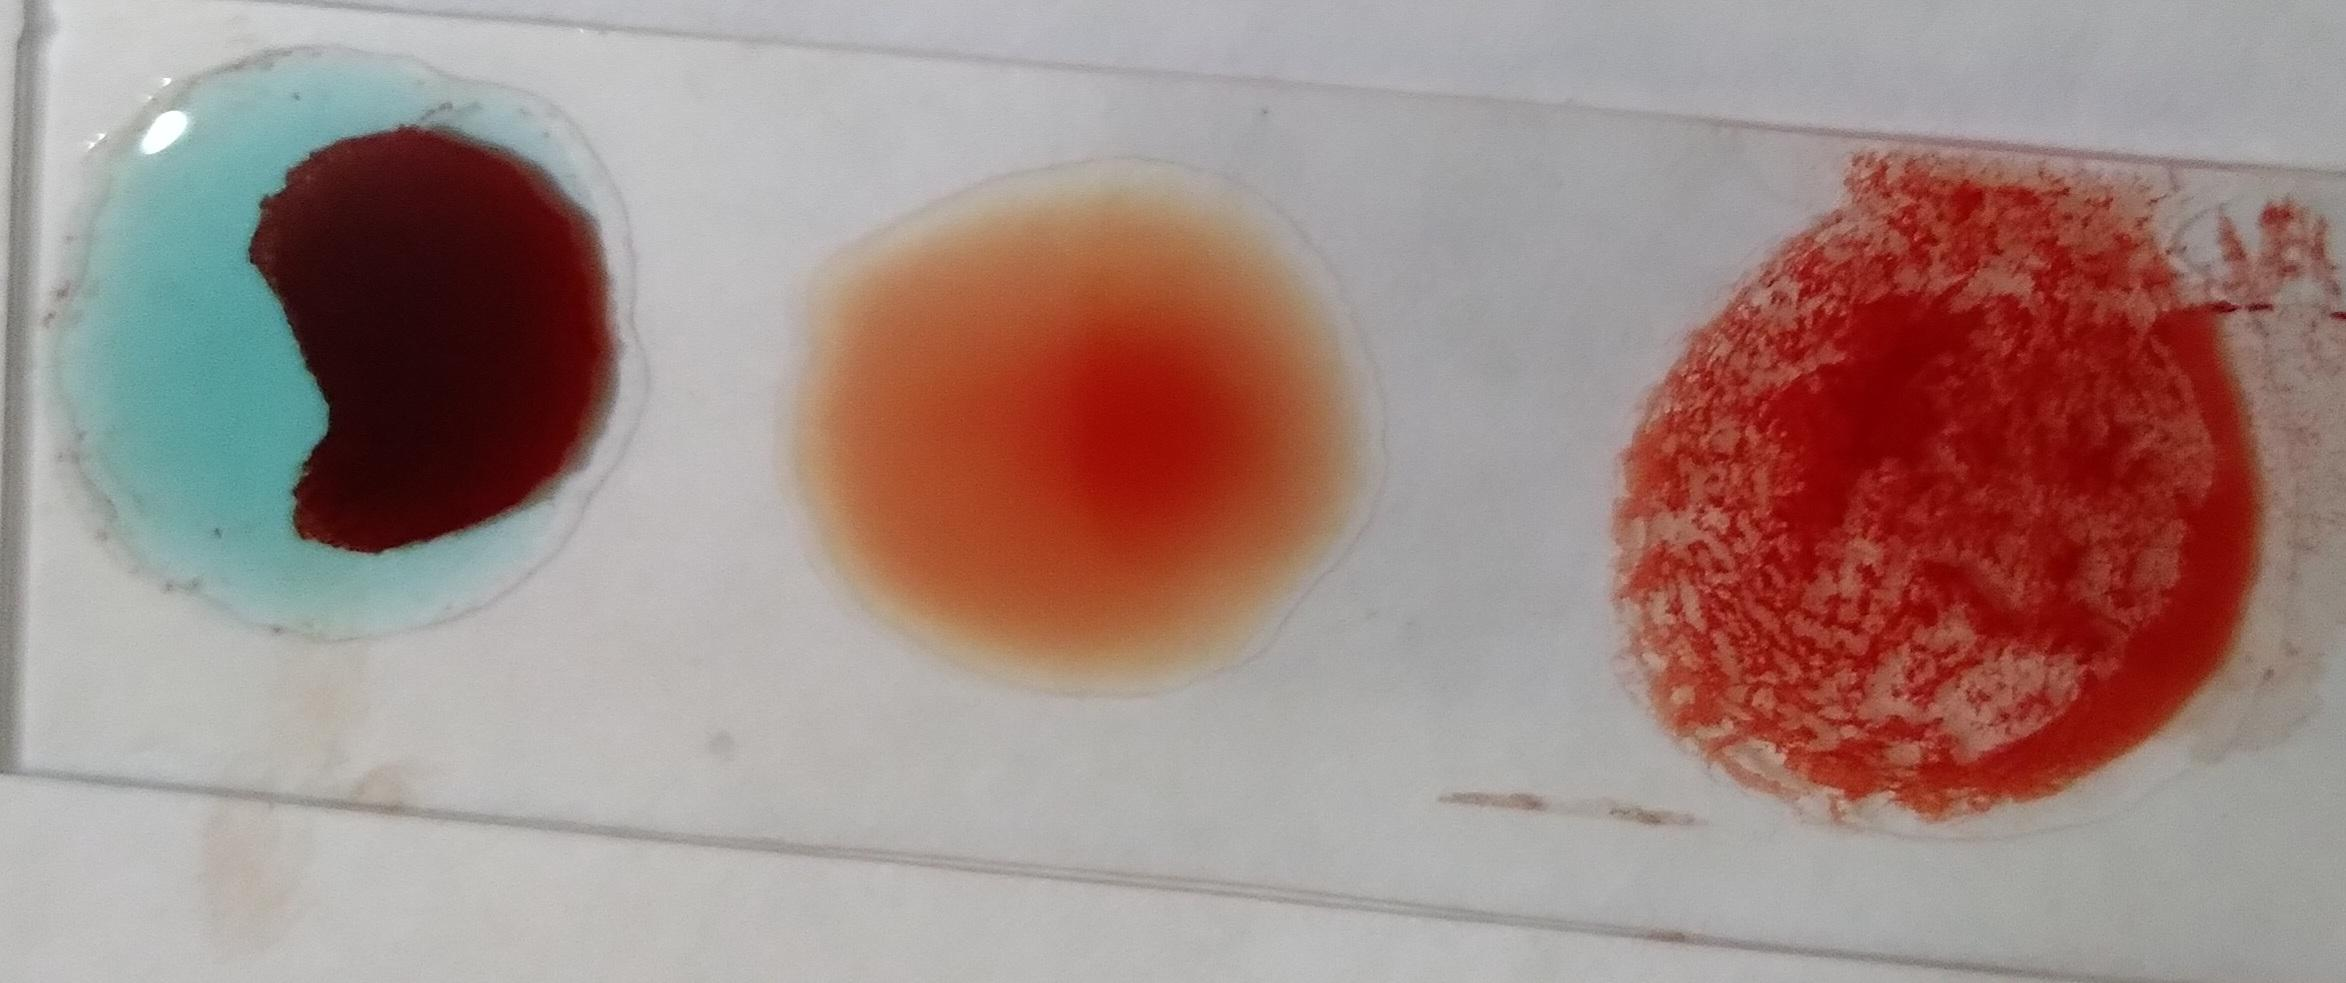A: (36, 40, 657, 649)
D: (1625, 183, 2252, 818)
